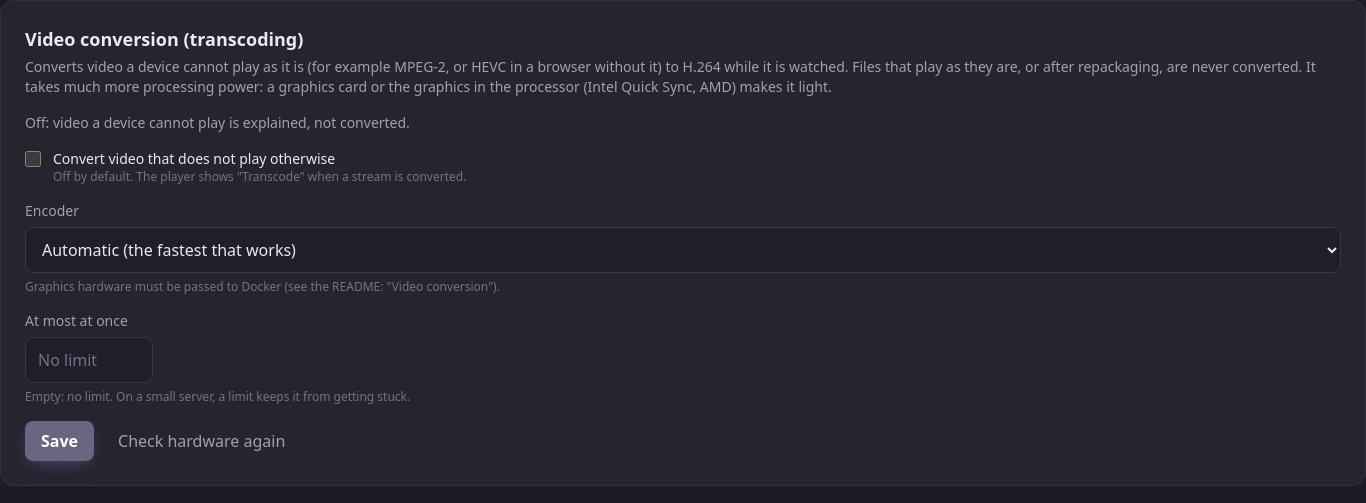
Test case: video conversion settings › shows which encoders work and turns conversion on without a limit
Expected: the text "Off: video a device cannot play is explained, not converted." is shown, top-left (25, 113), bottom-right (410, 132)
Click the checkbox labelled "Convert video that does not play otherwise" at point(33, 159), box top-left (25, 151), bottom-right (41, 167)
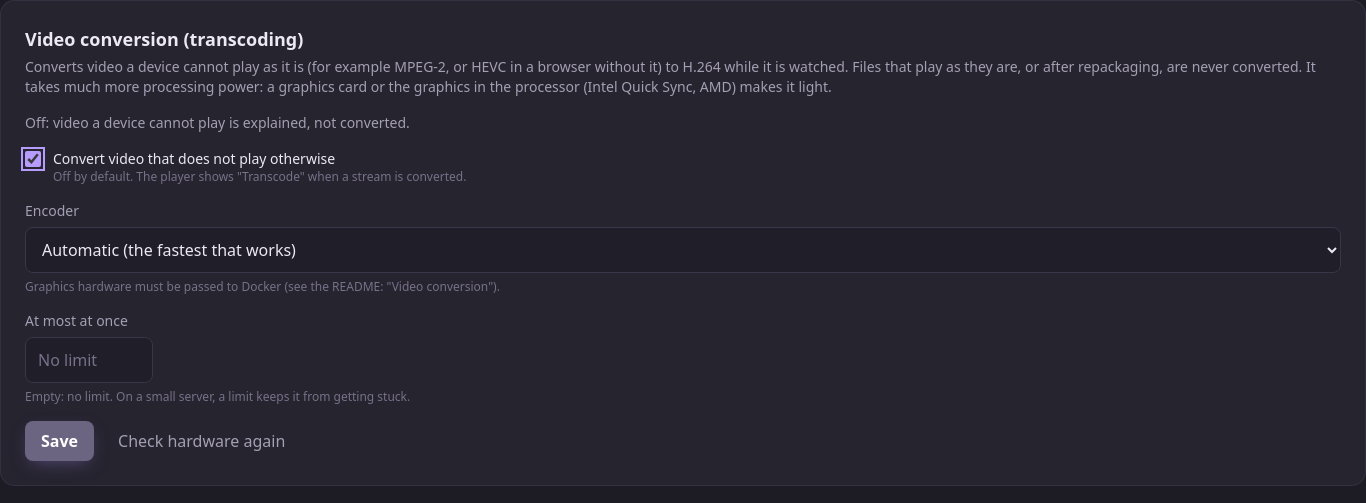
Click the button "Save" at point(60, 441), box top-left (25, 421), bottom-right (94, 461)
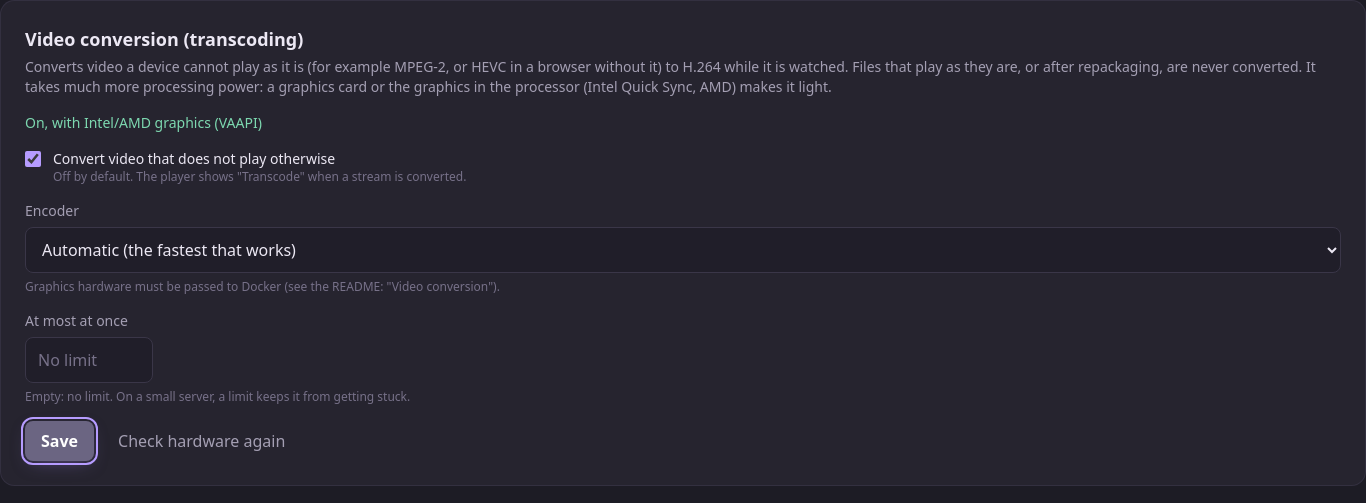
Expected: the text "On, with Intel/AMD graphics (VAAPI)" is shown, top-left (25, 113), bottom-right (262, 132)
